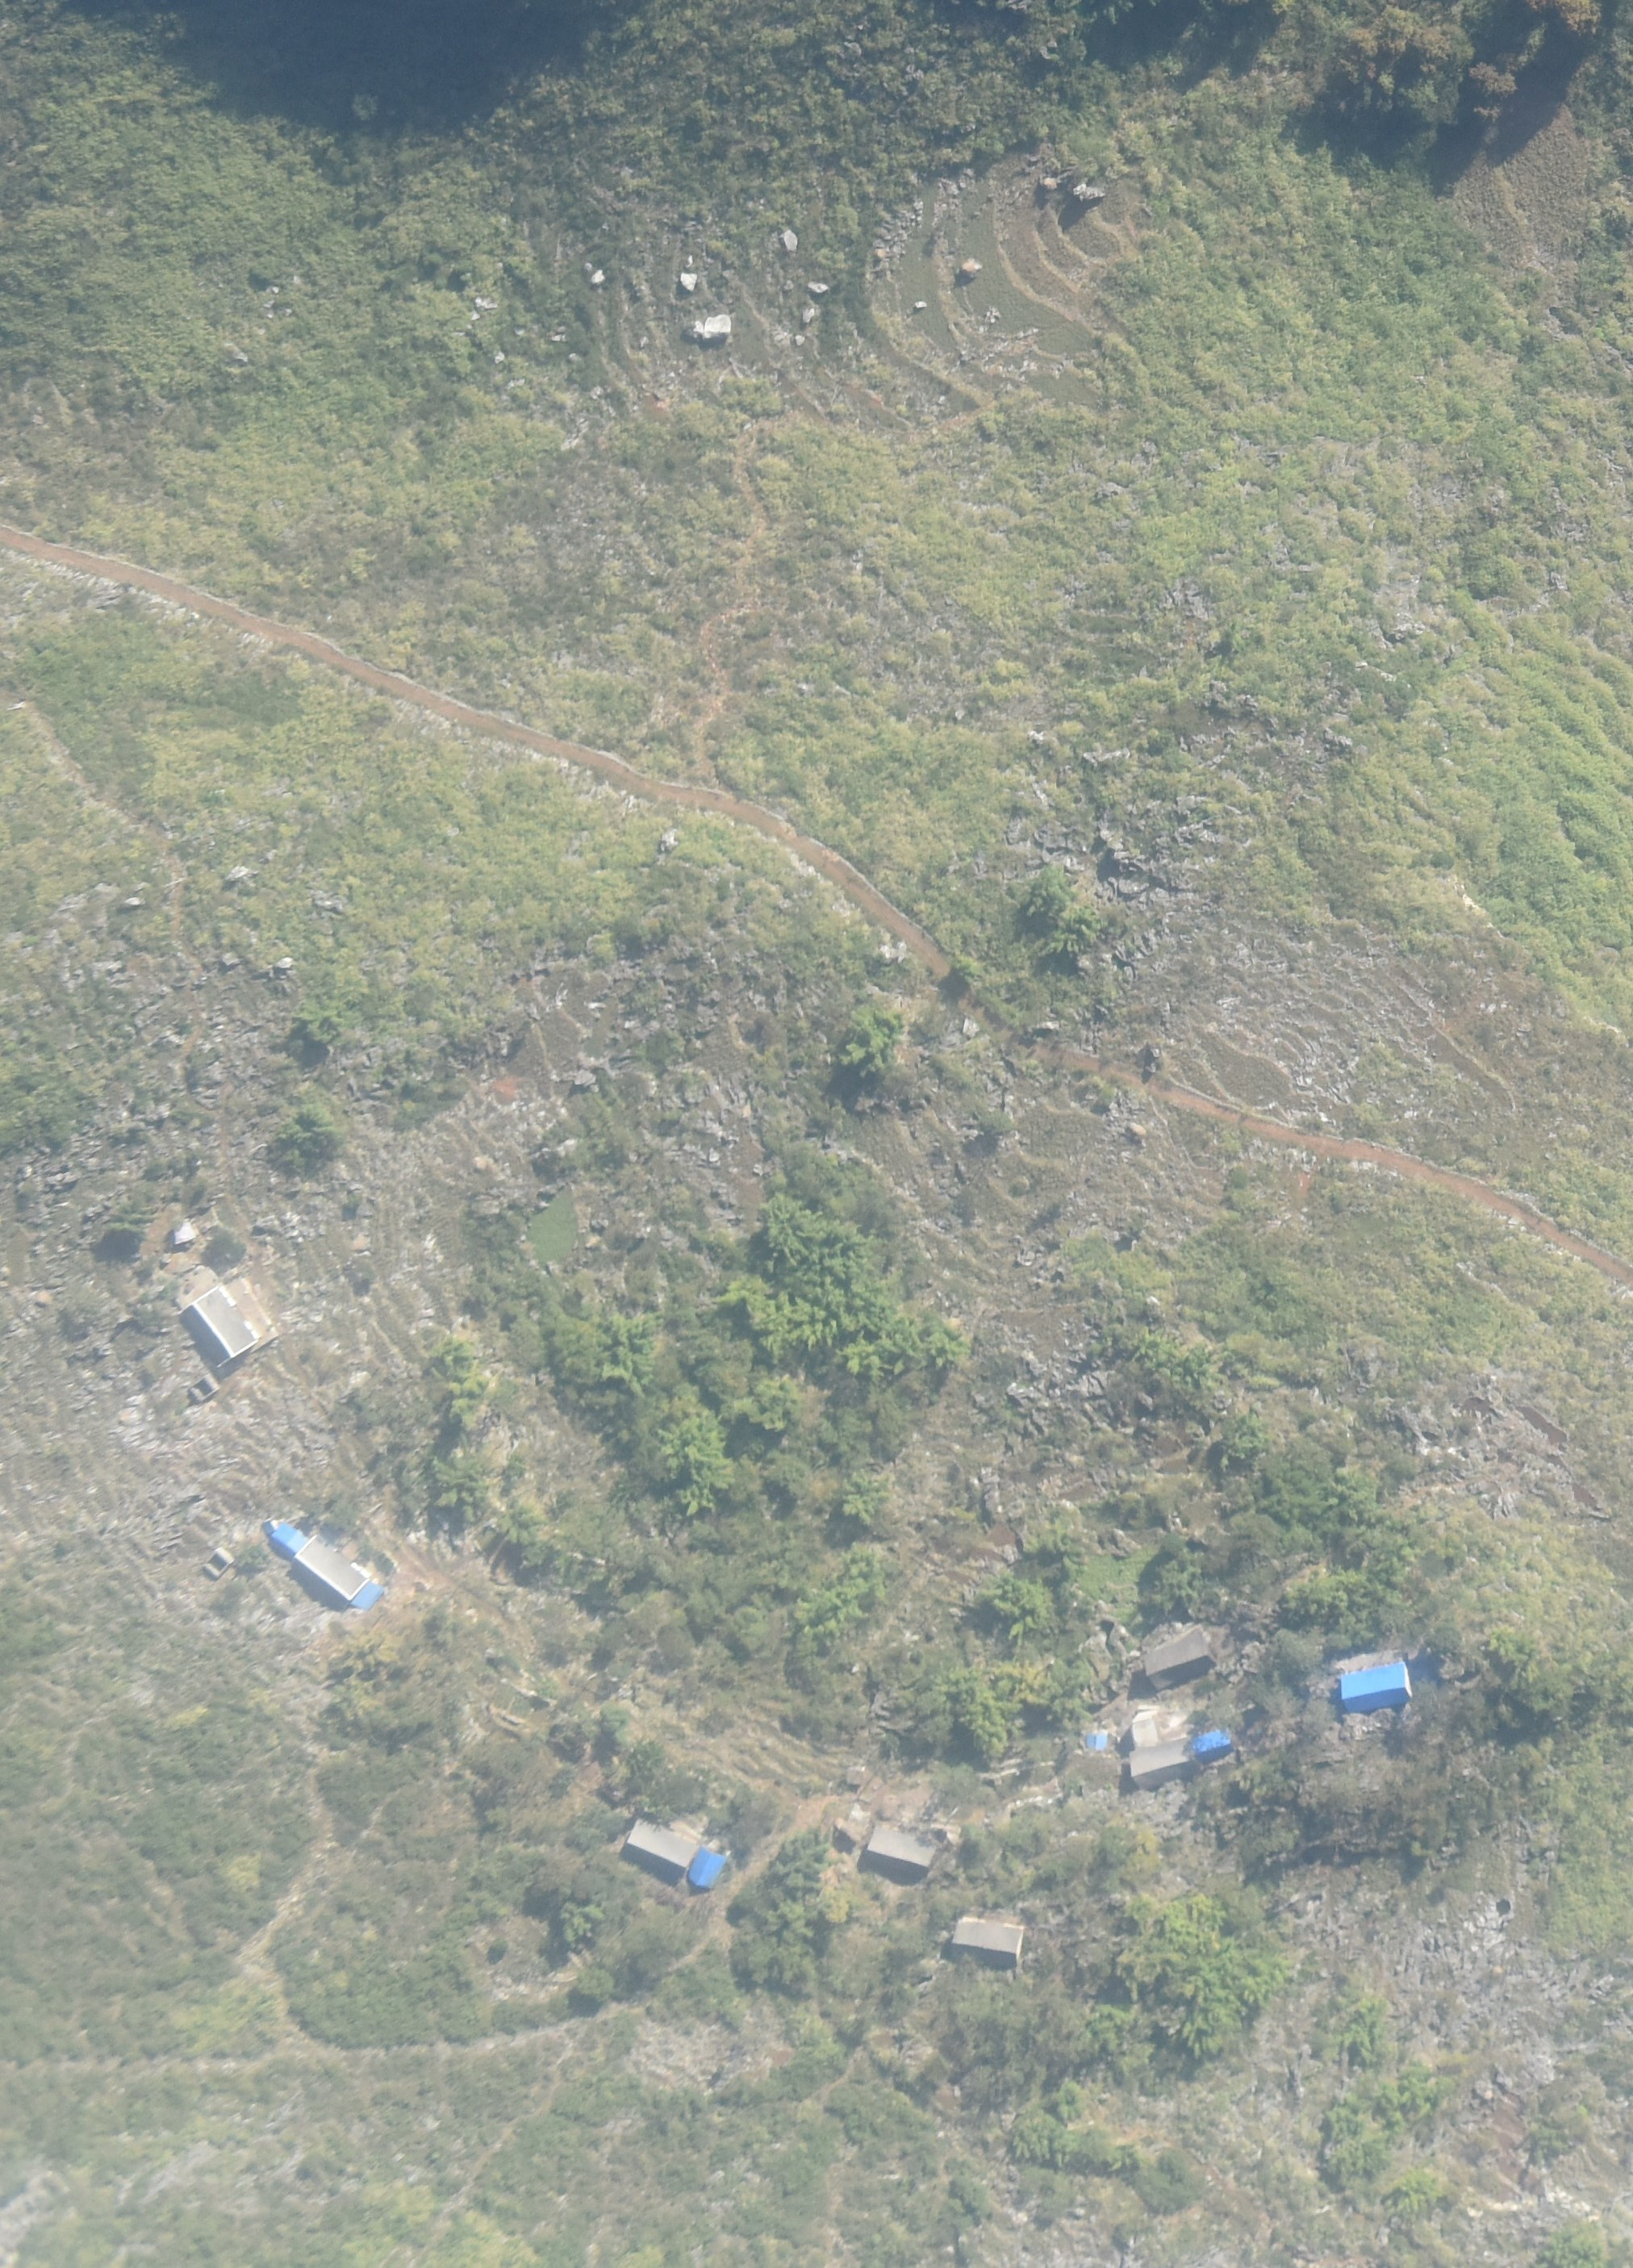building: (182, 1285, 257, 1370), (1140, 1631, 1219, 1692), (1132, 1713, 1197, 1788), (299, 1535, 364, 1600), (867, 1823, 936, 1880), (622, 1820, 699, 1868), (953, 1919, 1025, 1967), (846, 1766, 859, 1782)
prefabricated-house: (1339, 1664, 1412, 1708), (691, 1846, 723, 1887), (1192, 1731, 1232, 1761), (354, 1580, 386, 1614), (271, 1523, 299, 1549), (1083, 1731, 1106, 1747)
